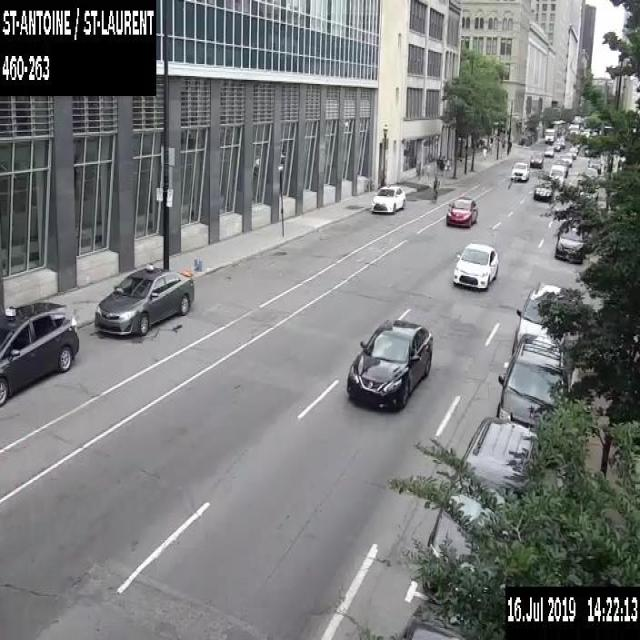construction: (179, 257, 202, 276)
pedestrian: (432, 174, 439, 203), (482, 146, 486, 159)
vehicle: (428, 415, 544, 580), (0, 299, 79, 408), (346, 317, 432, 412), (495, 332, 571, 430), (93, 264, 194, 336), (512, 280, 565, 356), (402, 598, 477, 639), (451, 241, 499, 291), (554, 222, 584, 262), (445, 195, 477, 228), (369, 184, 405, 212), (532, 180, 553, 201), (548, 164, 565, 189), (510, 160, 529, 181), (529, 150, 543, 168), (588, 156, 602, 174), (551, 119, 565, 134), (556, 159, 568, 176), (584, 166, 598, 179), (544, 127, 556, 142), (560, 152, 572, 166), (544, 145, 554, 156), (557, 136, 565, 148), (568, 147, 576, 158), (552, 140, 560, 150), (570, 144, 578, 153)
